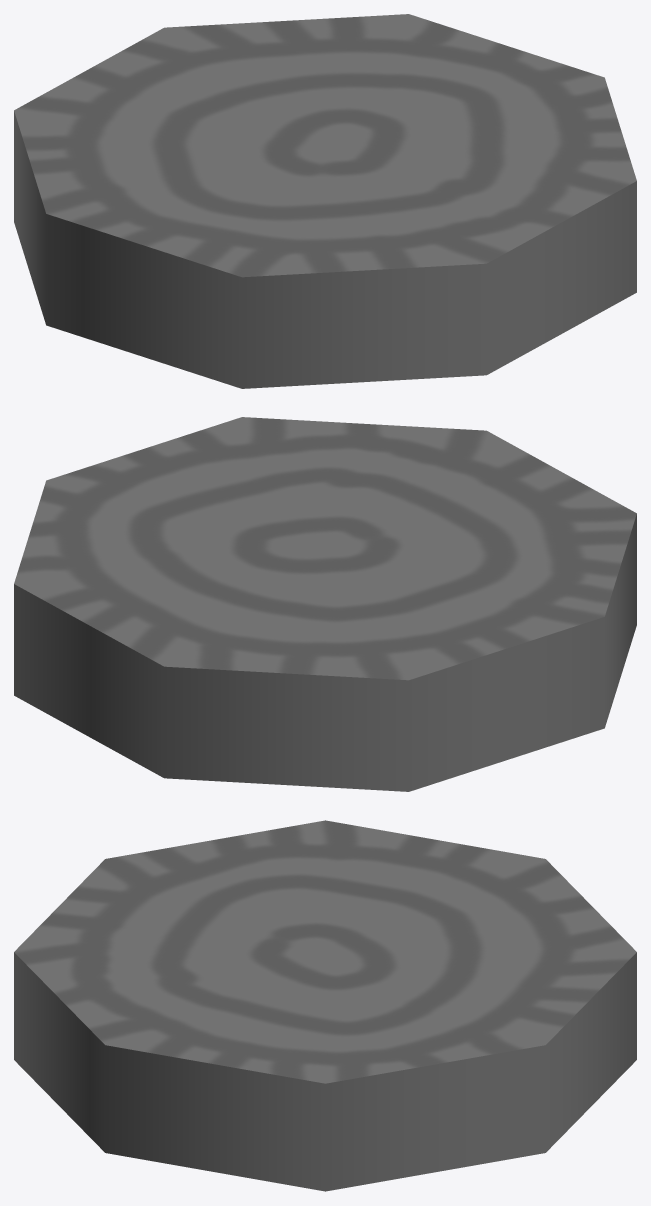
The model's file is obj_CheckerPieceRed.fbx.
3 renders of one model, top to bottom at view 1: azimuth 30°, elevation 25°; view 2: azimuth 150°, elevation 25°; view 3: azimuth 270°, elevation 25°, orthographic. The views are drawn at different scales.
Visible parts, largest first — view 1: obj_CheckerPieceRed; view 2: obj_CheckerPieceRed; view 3: obj_CheckerPieceRed.
Part boxes in pixels (box(x1,y1,x2,y2)): obj_CheckerPieceRed: box(14, 14, 636, 388); obj_CheckerPieceRed: box(14, 417, 636, 791); obj_CheckerPieceRed: box(14, 820, 636, 1191).
Size of the model in its own units: 0.0502 by 0.0096 by 0.0502.
Materials: 1 (1 with a texture image).
